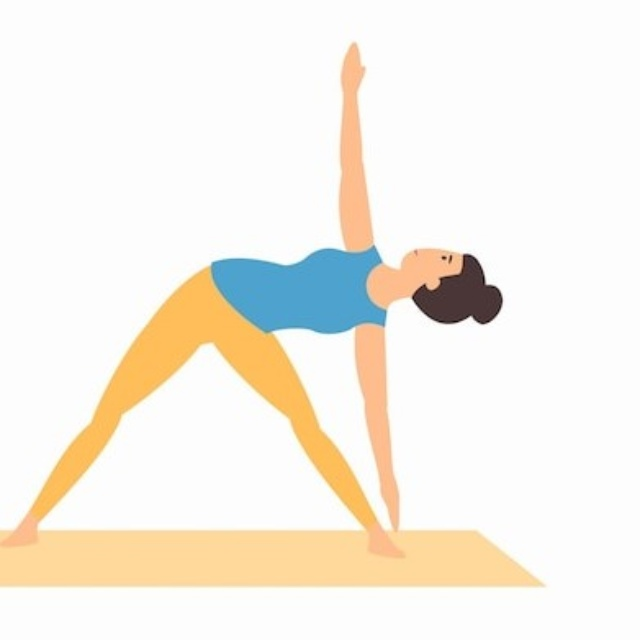Triangle_Pose: (1, 28, 509, 565)
